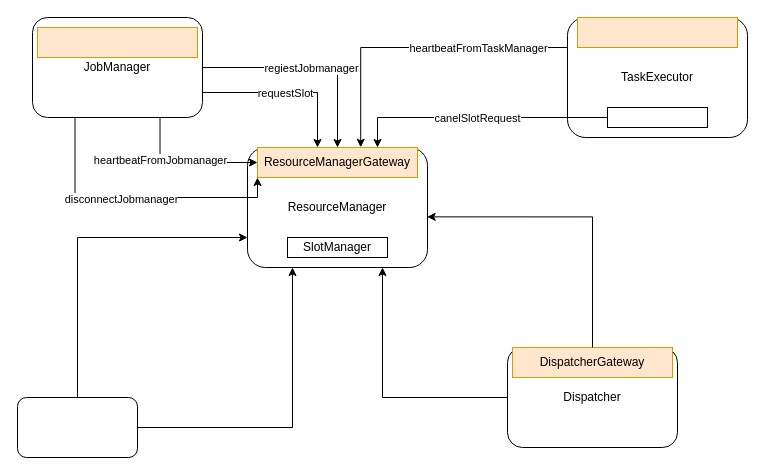
The diagram is 765 pixels wide and 475 high, and some of its shapes have lost their labels. The shapes that lost their labels are listed below. From the top down, each one's centre as x and y in pixels, then its label:
At point 117,42: "JobManagerGateway".
At point 657,32: "TaskExecutorGateway".
At point 657,117: "SlotPool".
At point 77,427: "WebMonitorEndpoint".
